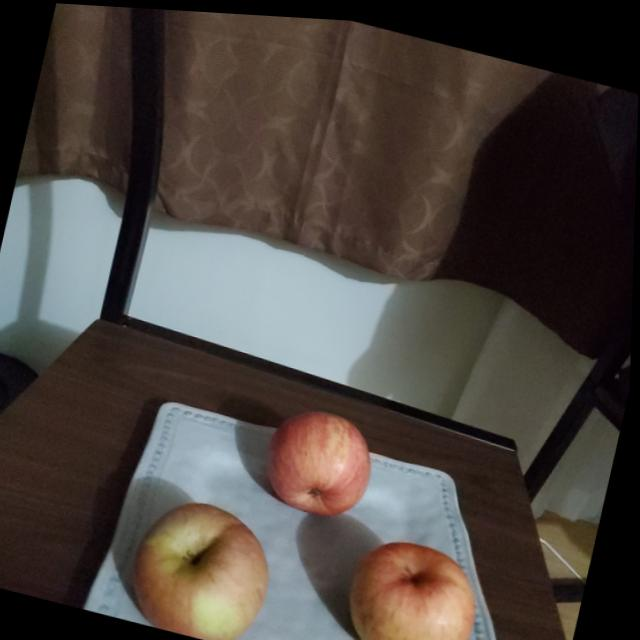apple: (126, 486, 287, 640), (342, 527, 494, 640), (260, 395, 385, 520)
